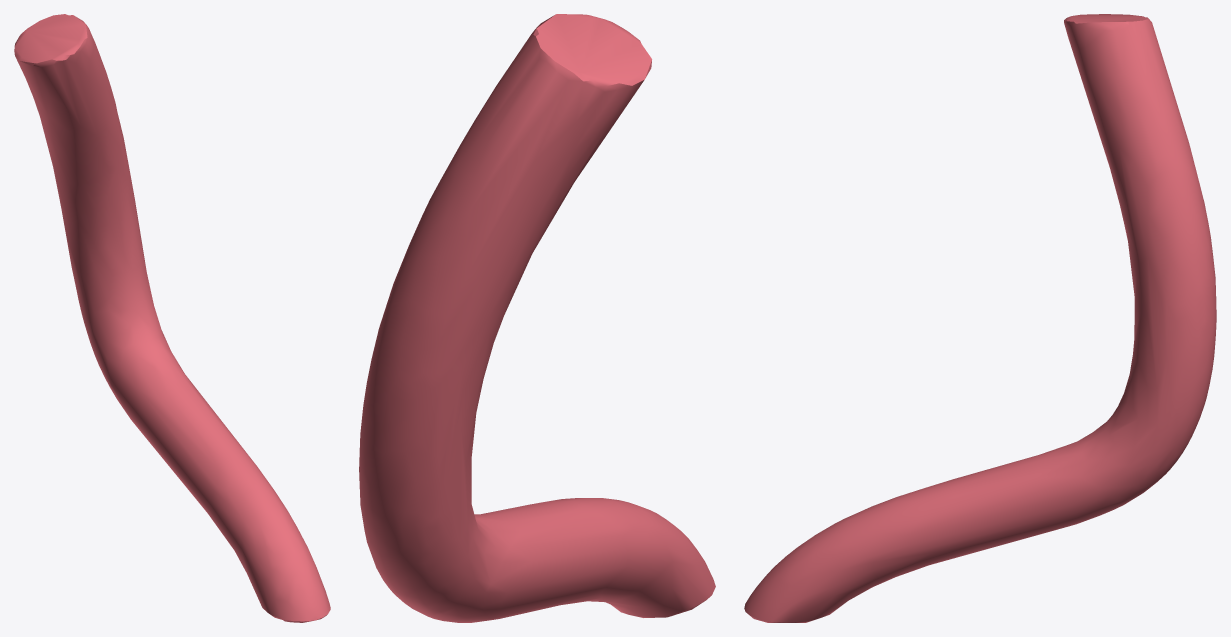
The model's file is fma18886.glb.
3 renders of one model, left to right at view 1: azimuth 30°, elevation 25°; view 2: azimuth 150°, elevation 25°; view 3: azimuth 270°, elevation 25°, orthographic. The views are drawn at different scales.
Parts seen in each view (by area): view 1: FMA18886; view 2: FMA18886; view 3: FMA18886.
Boxes of the visible parts, left/top/right/bottom form: FMA18886: left=14, top=14, right=330, bottom=622; FMA18886: left=359, top=14, right=715, bottom=622; FMA18886: left=744, top=14, right=1216, bottom=622.
Size of the model in its own units: 0.0302 by 0.0896 by 0.0697.
